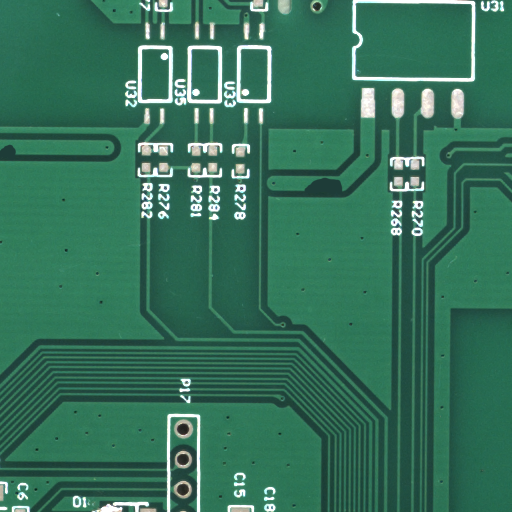Mouse_bite: (325, 186, 369, 210), (12, 151, 37, 169)
